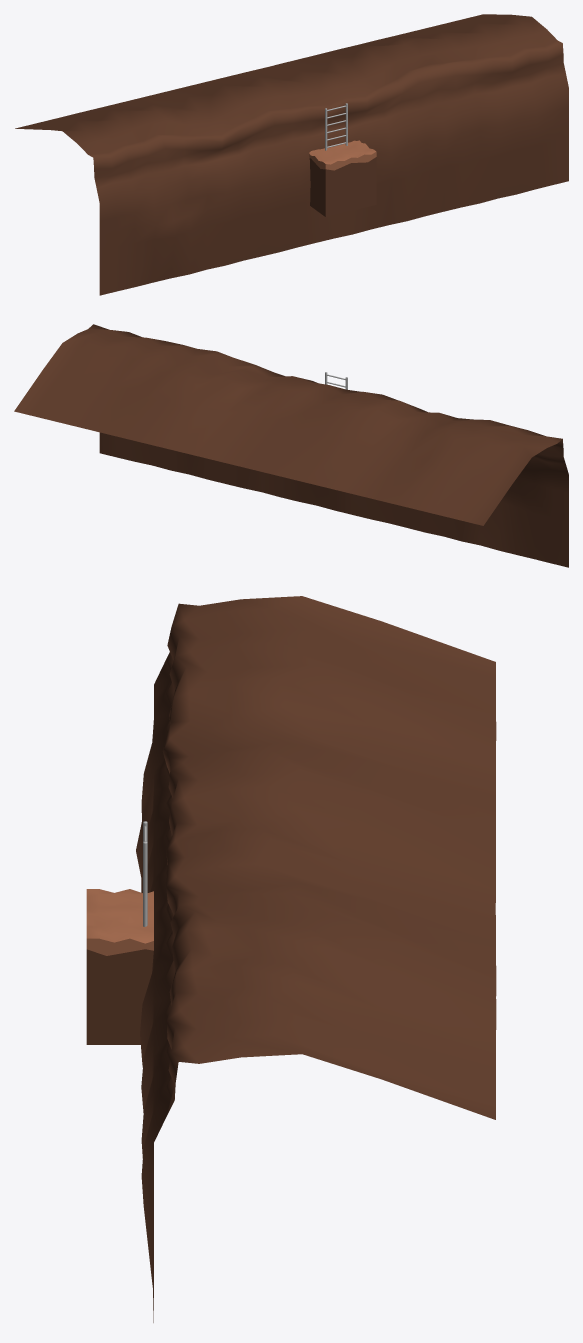
The model's file is Jail_level.fbx.
3 views of the same model, one above another, from view 1: azimuth 30°, elevation 25°; view 2: azimuth 150°, elevation 25°; view 3: azimuth 270°, elevation 25° (orthographic). The views are drawn at different scales.
Parts seen in each view (by area): view 1: Wall, Tile, Lestnica; view 2: Wall; view 3: Wall, Tile.
Boxes of the visible parts, box(x1,y1,x2,y2) form: Wall: box(15, 14, 568, 295); Tile: box(309, 140, 376, 216); Lestnica: box(325, 103, 347, 150); Wall: box(14, 324, 568, 567); Wall: box(136, 596, 496, 1322); Tile: box(86, 889, 153, 1044).
Size of the model in its own units: 134 by 38.12 by 50.57.
